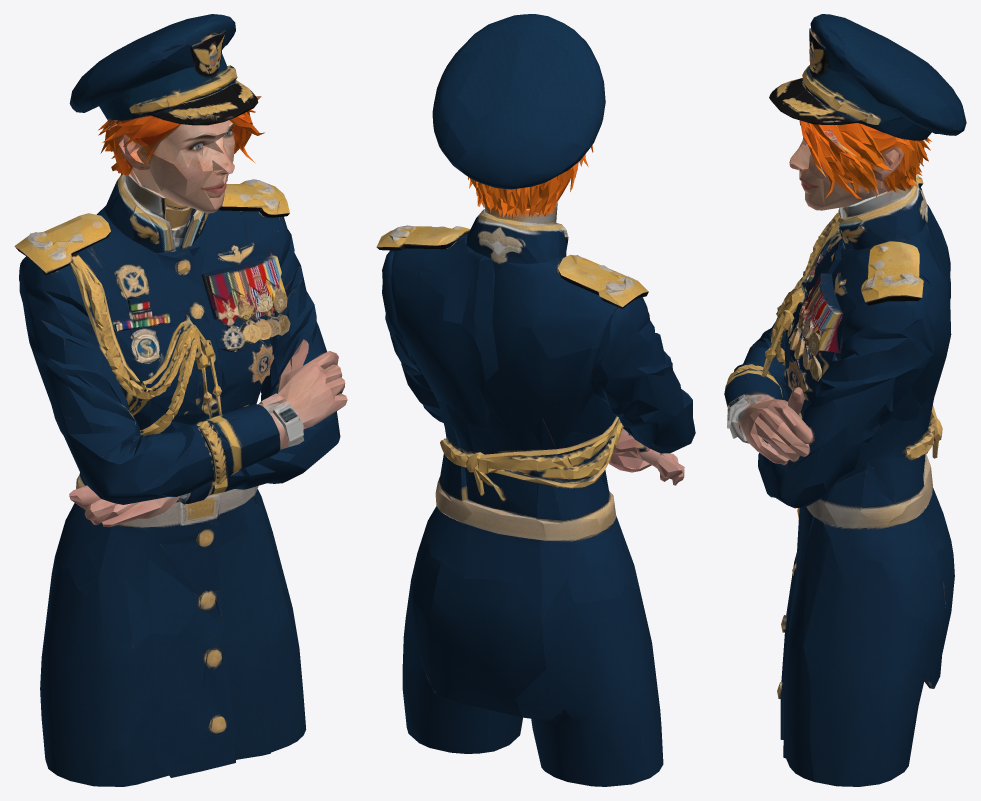
Rendered from crimson_153.glb.
3 views of the same model, side by side, from view 1: azimuth 30°, elevation 25°; view 2: azimuth 150°, elevation 25°; view 3: azimuth 270°, elevation 25° (orthographic). The views are drawn at different scales.
Visible parts, largest first — view 1: output_unwrapped; view 2: output_unwrapped; view 3: output_unwrapped.
Boxes of the visible parts, box(x1,y1,x2,y2) form: output_unwrapped: box(14, 14, 347, 786); output_unwrapped: box(376, 14, 695, 786); output_unwrapped: box(724, 14, 966, 786).
Size of the model in its own units: 0.7438 by 1.9 by 0.5865.
Materials: 1 (1 with a texture image).
